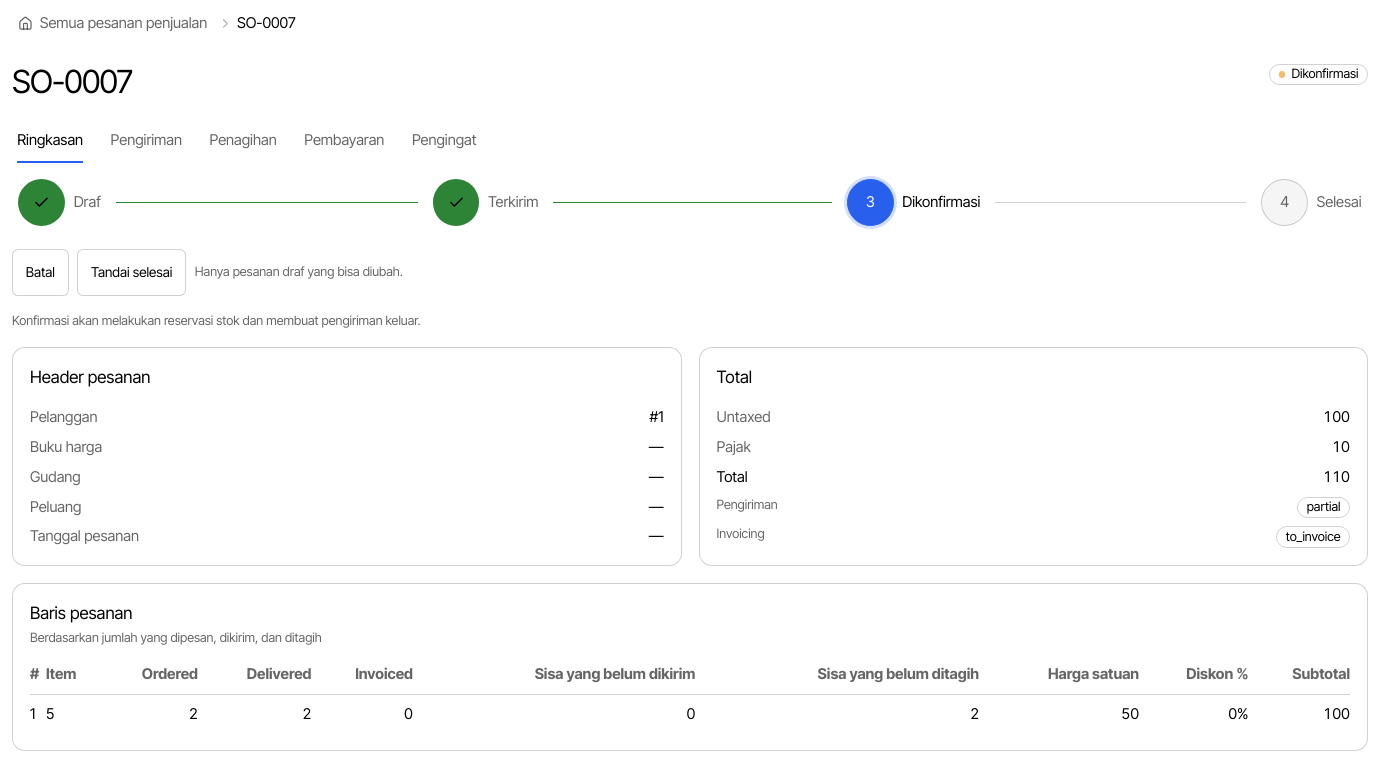
it: SaleOrderDetail branches3 › lists delivered-unbilled lines on the invoicing tab
Check: the heading "SO-0007" is shown, box [12, 64, 132, 100]
Click the tab "Penagihan".
click(243, 141)  # box [208, 117, 278, 164]
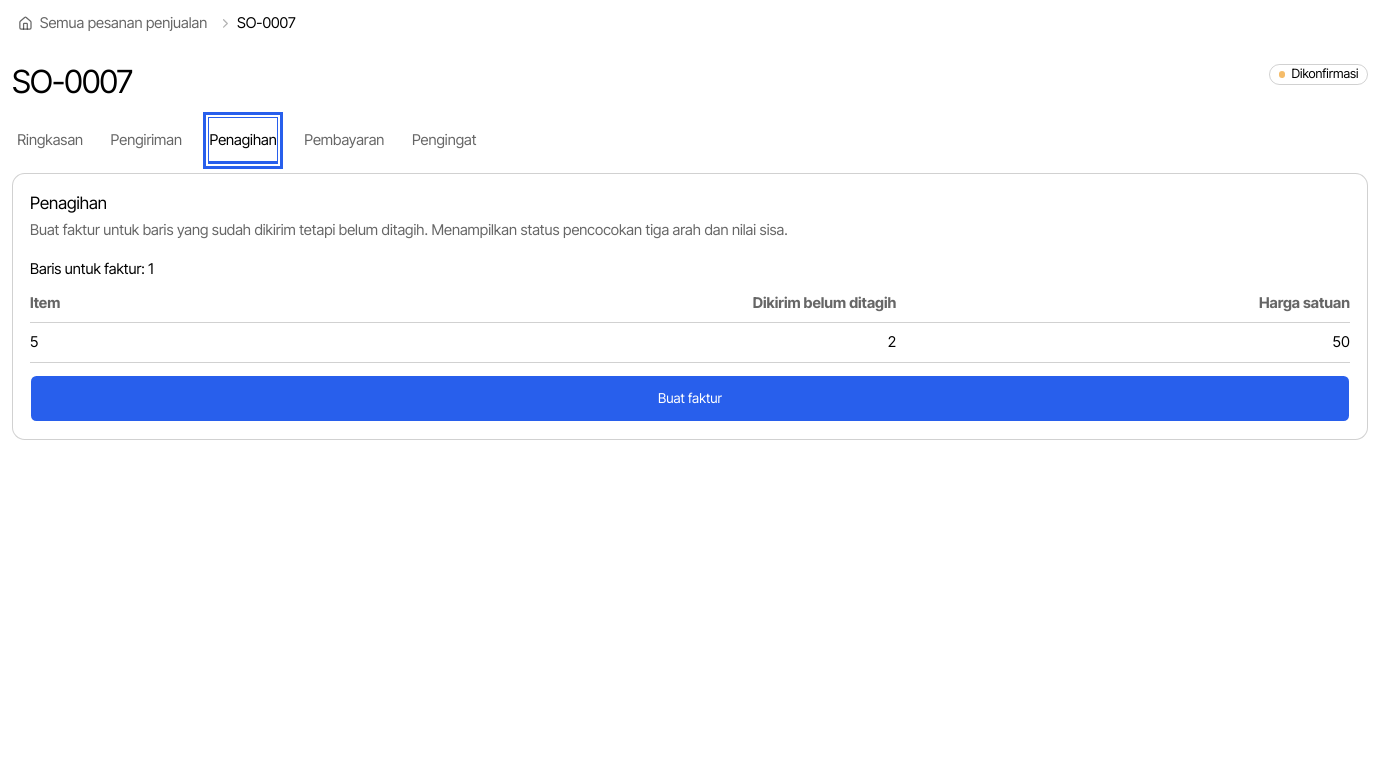
Check: the text "Baris untuk faktur: 1" is shown, box [30, 260, 154, 278]
